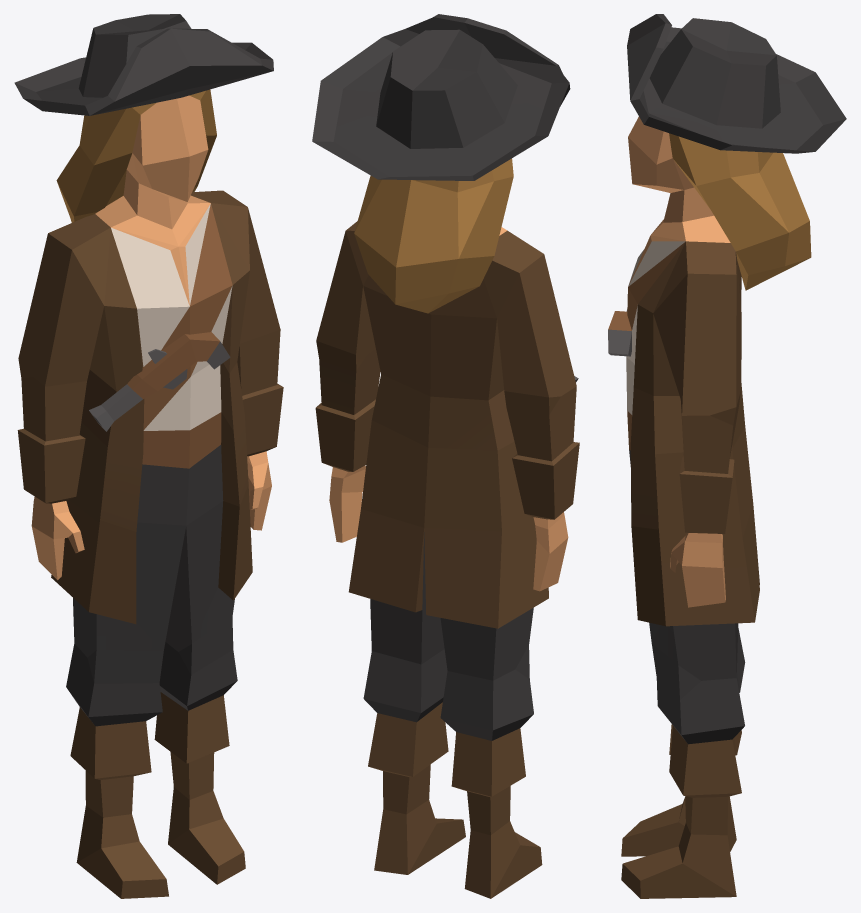
File: people_woman-pirate-hat.fbx
The picture shows the model from 3 angles, left to right: view 1: azimuth 30°, elevation 25°; view 2: azimuth 150°, elevation 25°; view 3: azimuth 270°, elevation 25°; orthographic projection.
Visible parts, largest first — view 1: people_woman_pirate_hat; view 2: people_woman_pirate_hat; view 3: people_woman_pirate_hat.
Boxes of the visible parts, left/top/right/bottom form: people_woman_pirate_hat: left=14, top=14, right=283, bottom=898; people_woman_pirate_hat: left=312, top=14, right=579, bottom=898; people_woman_pirate_hat: left=608, top=14, right=846, bottom=898.
Size of the model in its own units: 59.23 by 200 by 51.18.
